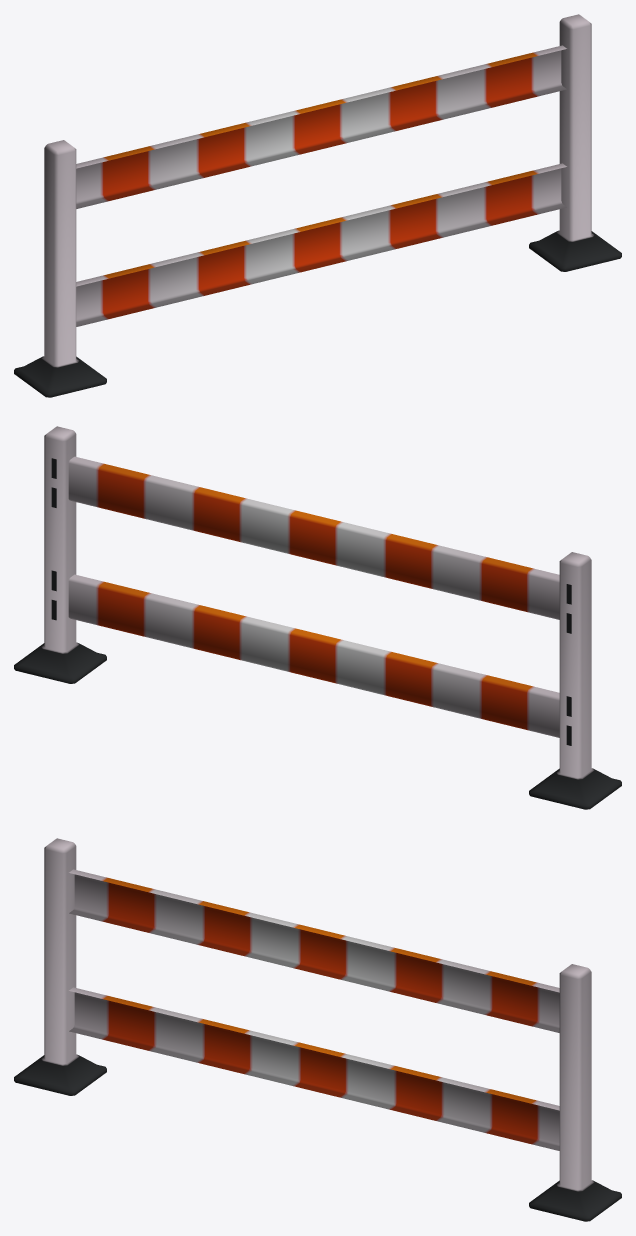
File: RoadWorksBarrier03.fbx
The picture shows the model from 3 angles, top to bottom: view 1: azimuth 30°, elevation 25°; view 2: azimuth 150°, elevation 25°; view 3: azimuth 330°, elevation 25°; orthographic projection.
Visible parts, largest first — view 1: RoadWorksBarrier03; view 2: RoadWorksBarrier03; view 3: RoadWorksBarrier03.
Part boxes in pixels (x1,y1,x2,y2): RoadWorksBarrier03: [14, 14, 621, 397]; RoadWorksBarrier03: [14, 426, 621, 809]; RoadWorksBarrier03: [14, 838, 621, 1221].
Size of the model in its own units: 402 by 155 by 42.57.
